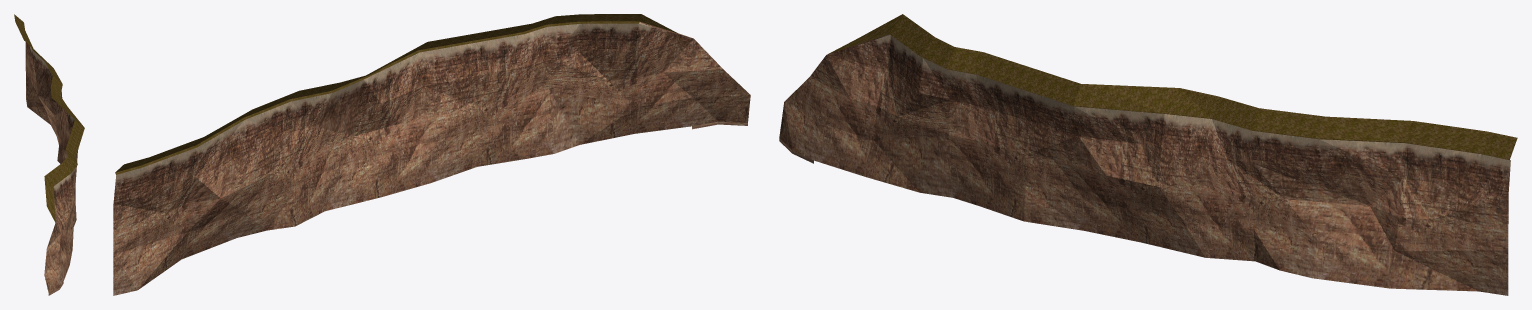
The model's file is clifftest02.obj.
3 renders of one model, left to right at view 1: azimuth 30°, elevation 25°; view 2: azimuth 150°, elevation 25°; view 3: azimuth 270°, elevation 25°, orthographic. The views are drawn at different scales.
Parts seen in each view (by area): view 1: clifftest02; view 2: clifftest02; view 3: clifftest02.
Boxes of the visible parts, left/top/right/bottom form: clifftest02: left=14, top=14, right=84, bottom=295; clifftest02: left=113, top=14, right=750, bottom=295; clifftest02: left=779, top=14, right=1517, bottom=295.
Size of the model in its own units: 50.58 by 22.75 by 98.15.
